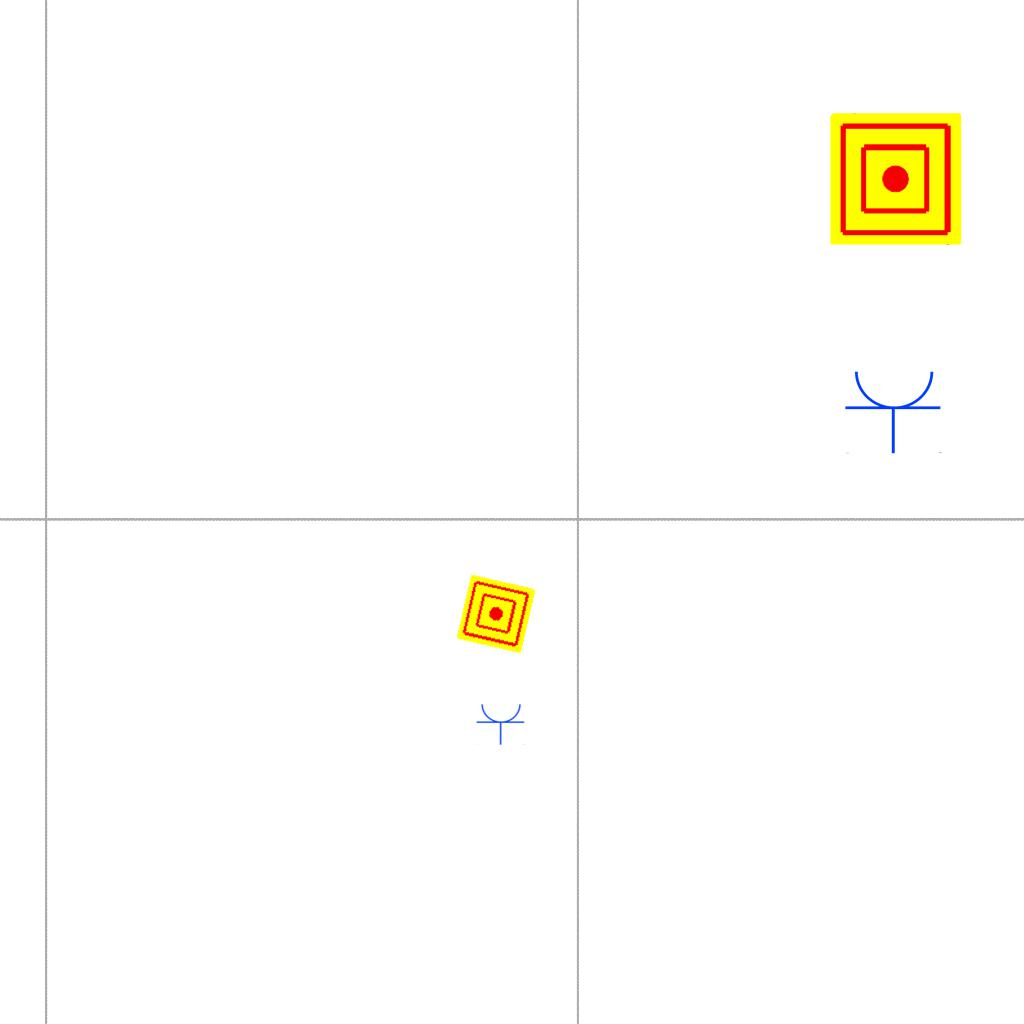NAM-Nichtautomatischer_Melder: (830, 113, 962, 245), (456, 574, 536, 654)
Schukosteckdose_einfach: (844, 367, 944, 454), (476, 702, 526, 745)
